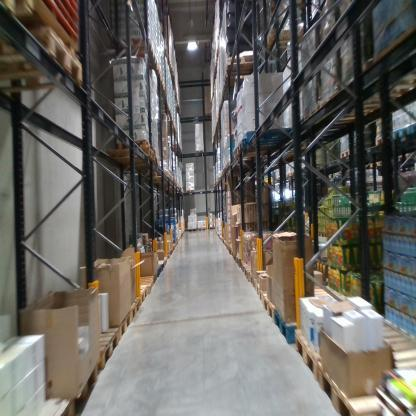pallets: (38, 275, 160, 414), (216, 232, 297, 345), (0, 0, 88, 97), (291, 328, 384, 414), (152, 224, 191, 289)
